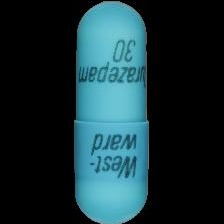21695-363: (0, 0, 224, 224)
